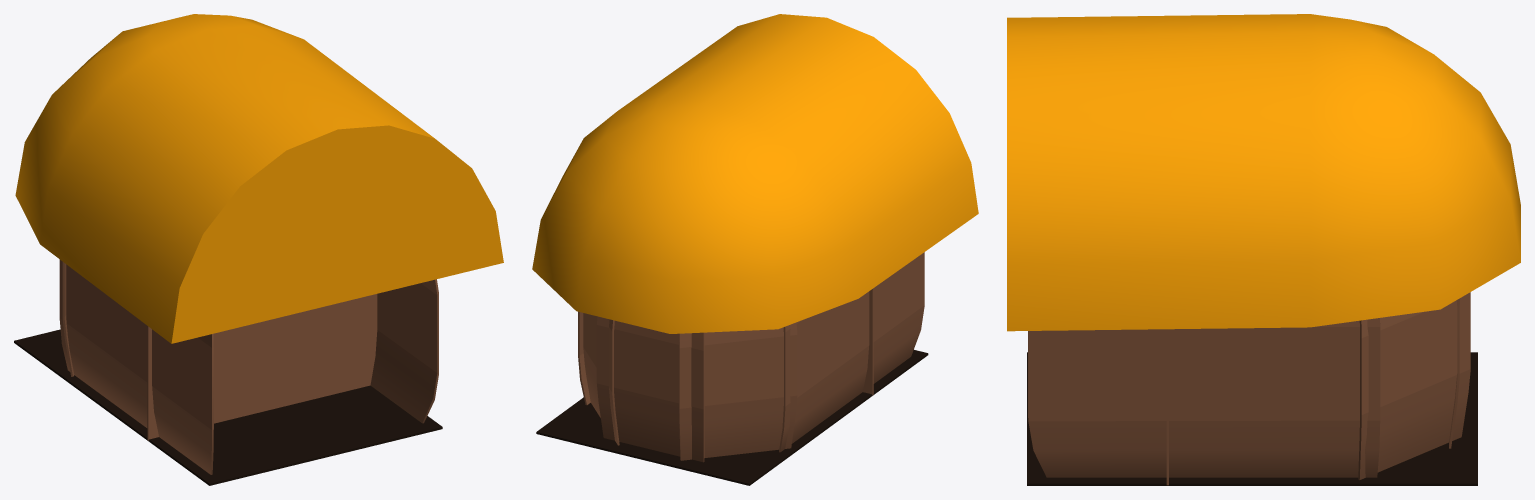
Rendered from Room.fbx.
3 renders of one model, left to right at view 1: azimuth 30°, elevation 25°; view 2: azimuth 150°, elevation 25°; view 3: azimuth 270°, elevation 25°, orthographic. The views are drawn at different scales.
Visible parts, largest first — view 1: RoofFullBright, SideWallLeft, BackWall, Floor, SideWallRight; view 2: RoofFullBright, SideWallLeft, FrontLeftWall, FrontWall, Floor, FrontRightWall, BackWall, SideWallRight; view 3: RoofFullBright, SideWallRight, FrontRightWall, Floor.
Part boxes in pixels (bbox=[...]): RoofFullBright: bbox=[15, 14, 503, 343]; SideWallLeft: bbox=[59, 259, 213, 474]; BackWall: bbox=[147, 294, 377, 440]; Floor: bbox=[14, 329, 442, 485]; SideWallRight: bbox=[370, 279, 438, 423]; RoofFullBright: bbox=[532, 14, 978, 333]; SideWallLeft: bbox=[779, 252, 924, 452]; FrontLeftWall: bbox=[679, 322, 797, 460]; FrontWall: bbox=[596, 316, 704, 462]; Floor: bbox=[536, 350, 928, 485]; FrontRightWall: bbox=[583, 313, 619, 445]; BackWall: bbox=[863, 288, 873, 395]; SideWallRight: bbox=[578, 311, 590, 405]; RoofFullBright: bbox=[1007, 14, 1520, 331]; SideWallRight: bbox=[1028, 318, 1380, 477]; FrontRightWall: bbox=[1358, 292, 1470, 479]; Floor: bbox=[1027, 352, 1477, 485].
Bounding box in the file's own units: 246 × 239 × 286.
